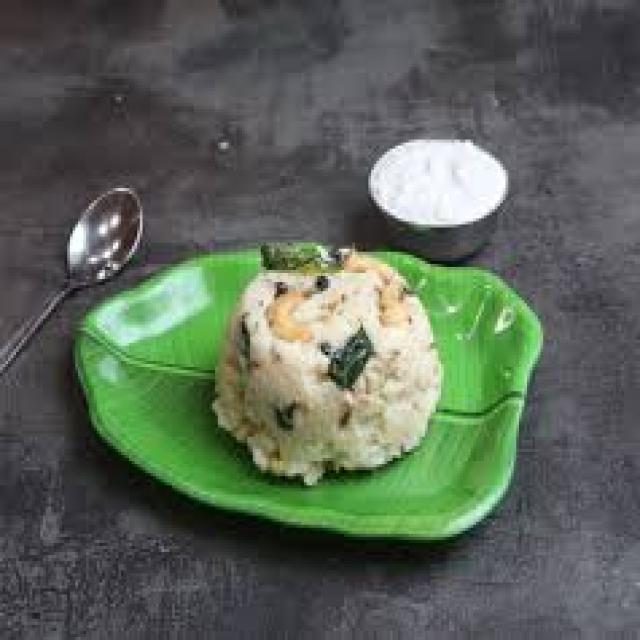PONGAL: (208, 246, 449, 490)
WHITE CHUTNEY: (372, 137, 510, 229)
